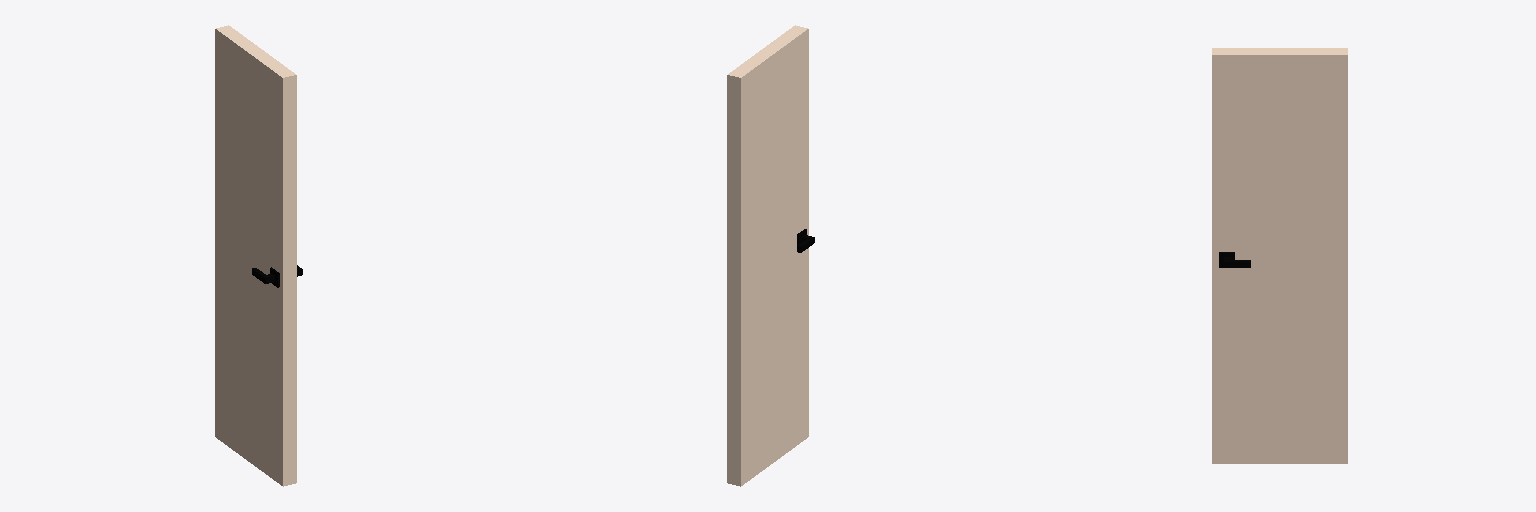
The model's file is door1_beige.obj.
3 renders of one model, left to right at view 1: azimuth 30°, elevation 25°; view 2: azimuth 150°, elevation 25°; view 3: azimuth 270°, elevation 25°, orthographic.
Visible parts, largest first — view 1: Cube; view 2: Cube; view 3: Cube.
Boxes of the visible parts, <box> form: Cube: <box>215,25,302,486</box>; Cube: <box>727,25,814,486</box>; Cube: <box>1212,48,1347,463</box>.
Bounding box in the file's own units: 0.1899 × 2 × 0.5999.